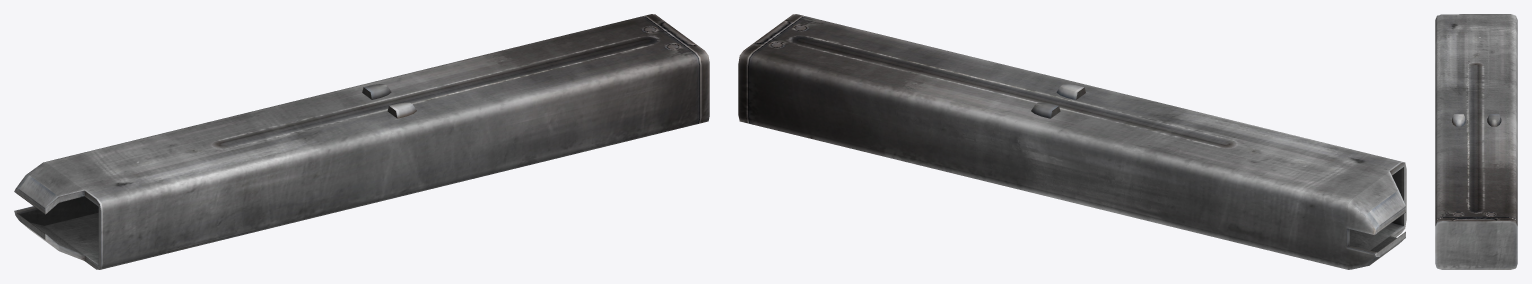
File: MagazineM11.fbx
The picture shows the model from 3 angles, left to right: view 1: azimuth 30°, elevation 25°; view 2: azimuth 150°, elevation 25°; view 3: azimuth 270°, elevation 25°; orthographic projection. The views are drawn at different scales.
Parts seen in each view (by area): view 1: stock2.001; view 2: stock2.001; view 3: stock2.001.
Part boxes in pixels (bbox=[...]): stock2.001: bbox=[14, 14, 709, 269]; stock2.001: bbox=[738, 14, 1406, 269]; stock2.001: bbox=[1435, 14, 1517, 269].
Bounding box in the file's own units: 37.05 × 4.65 × 5.98.
